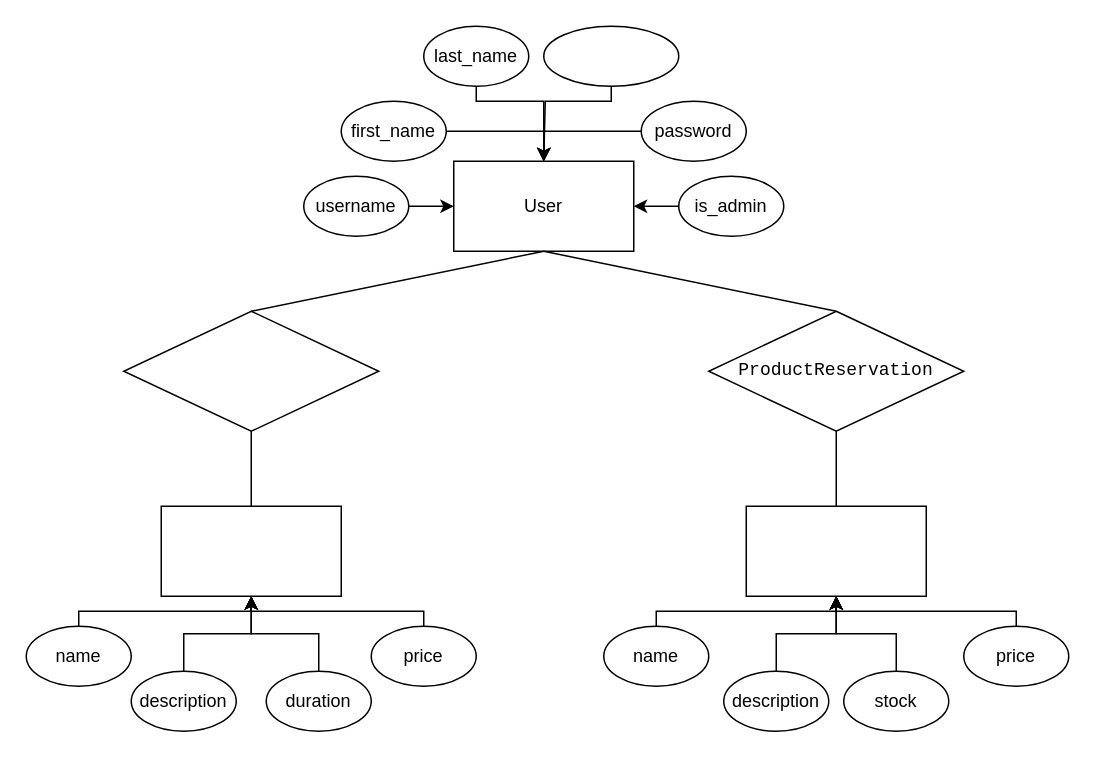
The diagram is 1095 pixels wide and 758 high, and some of its shapes have lost their labels. Here are the shapes that lost their labels. From the top down, the centre of each, then its label:
point 610,55: phone_num
point 250,370: ServiceAppointment
point 250,550: Service
point 835,550: Product
